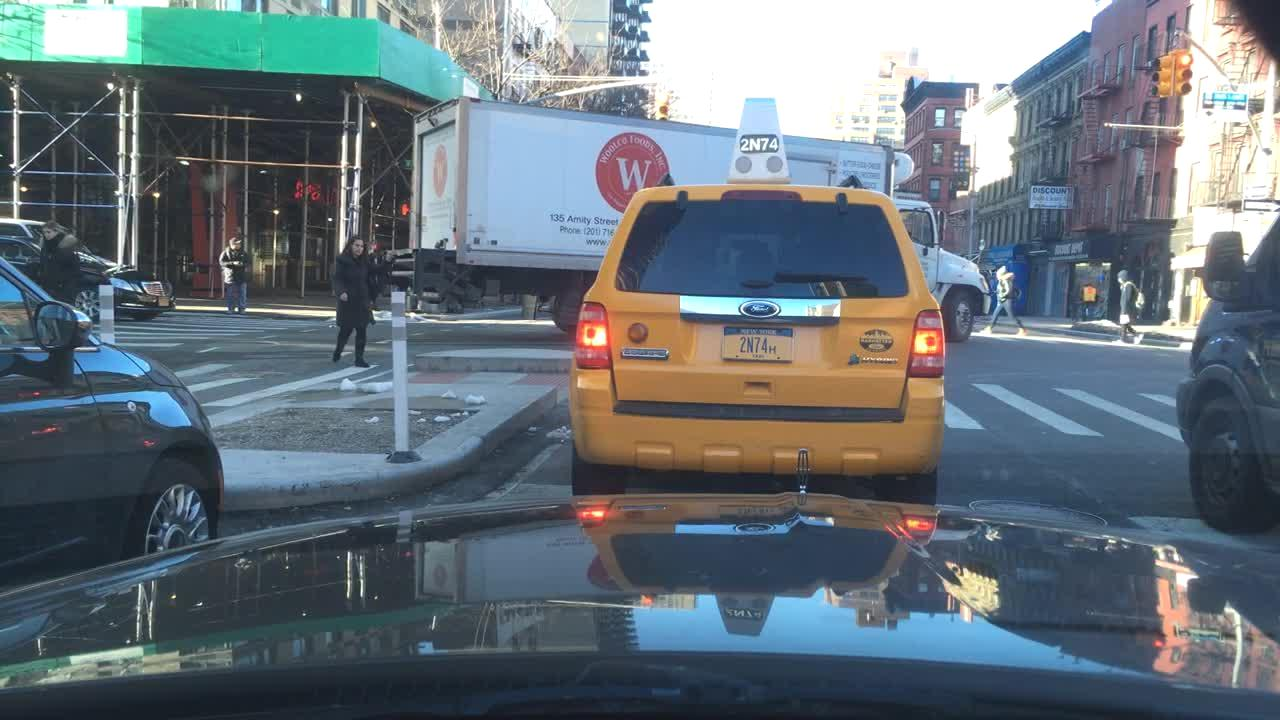ford: (736, 297, 784, 321)
lincoln: (790, 444, 814, 504)
